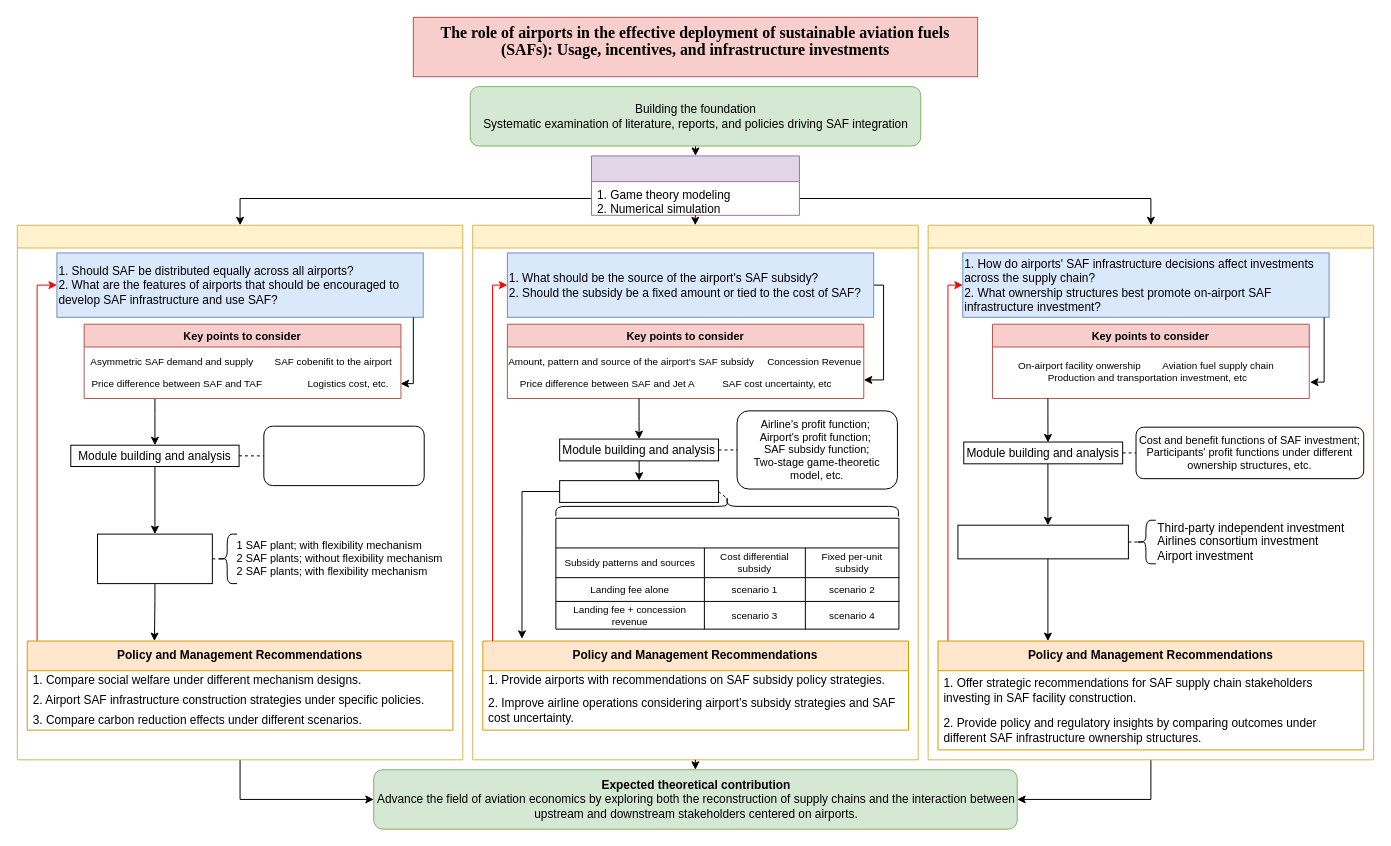
Some shapes in this 1391 by 846 pixel diagram are drawn without their labels. Here are the shapes that lost their labels. From the top down, the box of each, then its label:
(591, 155, 799, 215): Research method
(263, 425, 424, 486): Passenger demand function; Airports' profit function, etc.
(16, 224, 463, 760): Module 1. Distribution of SAF usage in airports
(559, 480, 719, 502): 4 kinds of subsidy strategy
(472, 224, 918, 760): Module 2. Airport promotion for SAF adoption
(927, 224, 1374, 760): Module 3. Airport-based capacity investment of SAF infrastructure
(97, 533, 212, 584): SAF usage in 3 different scenarios
(957, 524, 1128, 559): 3 kinds of ownership structure of on-airport facility
(555, 517, 899, 629): Combination set of subsidy patterns and sources
